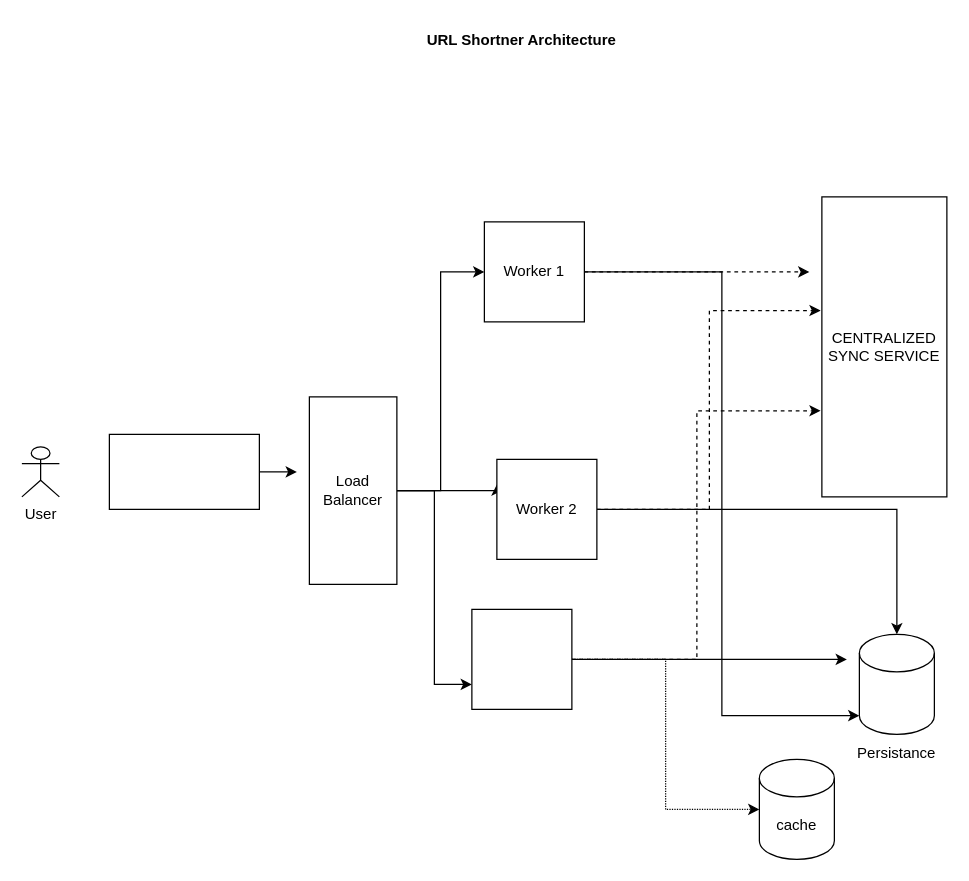
Image size: 969x881. Some labels were removed from this diagram. The box of each missing label's shape, as (x1, y1, x2, y2) in pixels:
Client: (108, 433, 259, 509)
RDBMS: (858, 633, 934, 734)
Worker n: (471, 608, 572, 709)
